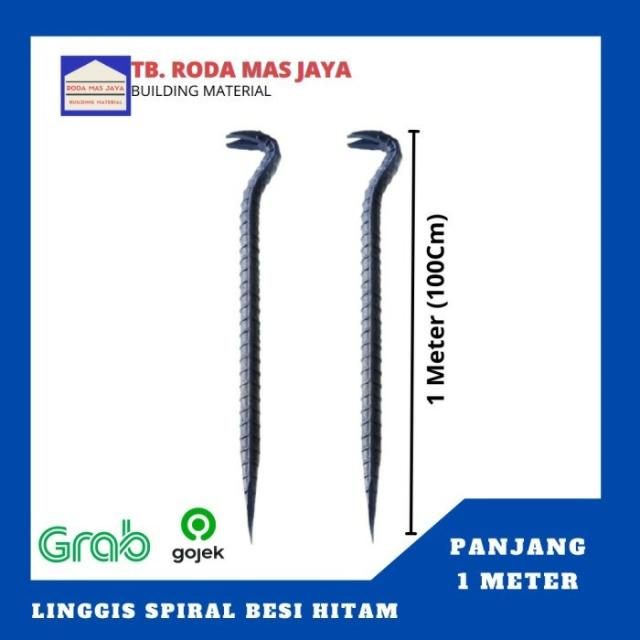crow bar: (332, 125, 413, 546), (219, 130, 290, 539)
